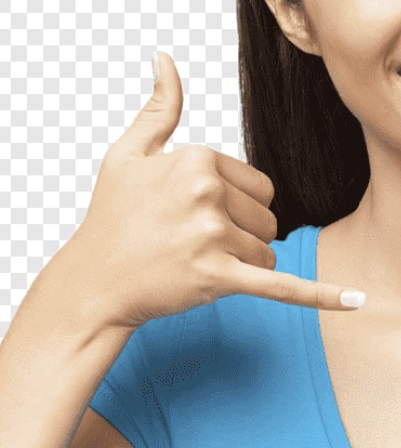call: (88, 50, 365, 313)
